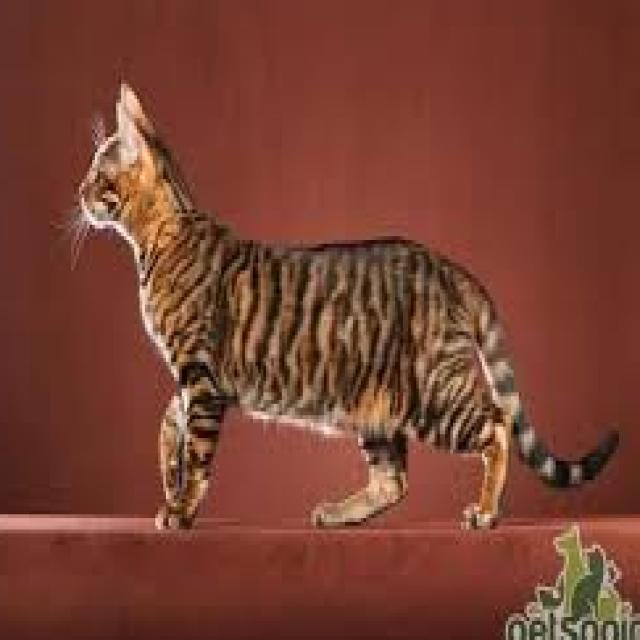Toyger: (71, 76, 623, 538)
